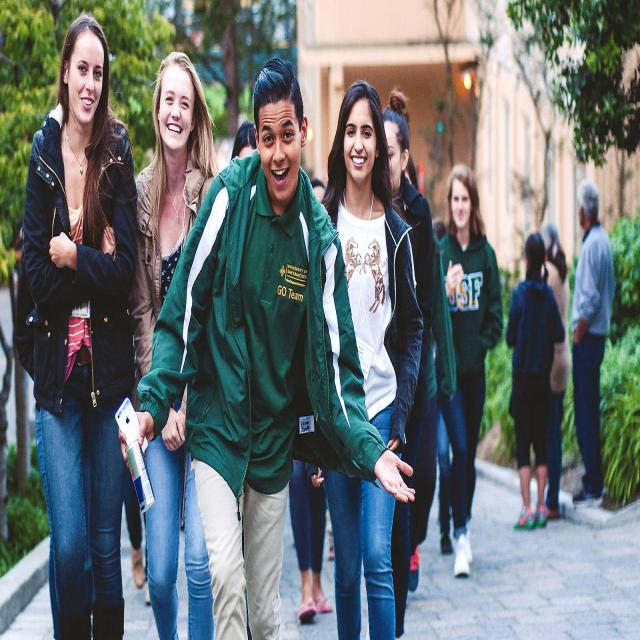body: (111, 51, 418, 639), (11, 13, 141, 639), (120, 44, 236, 639), (318, 76, 426, 639), (378, 87, 441, 640), (435, 160, 505, 580), (404, 150, 458, 596), (286, 176, 336, 625), (502, 227, 568, 535), (228, 117, 264, 640), (568, 175, 620, 511), (534, 221, 572, 521), (428, 208, 458, 569), (119, 408, 158, 617)
